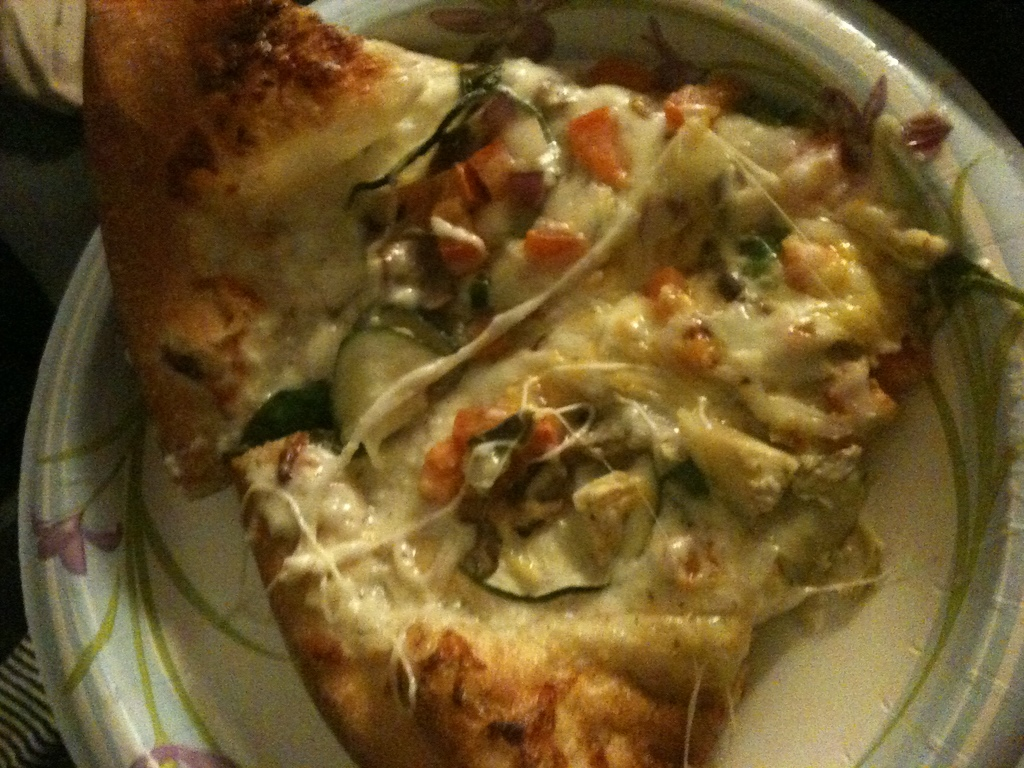Pizza: (65, 0, 959, 768)
